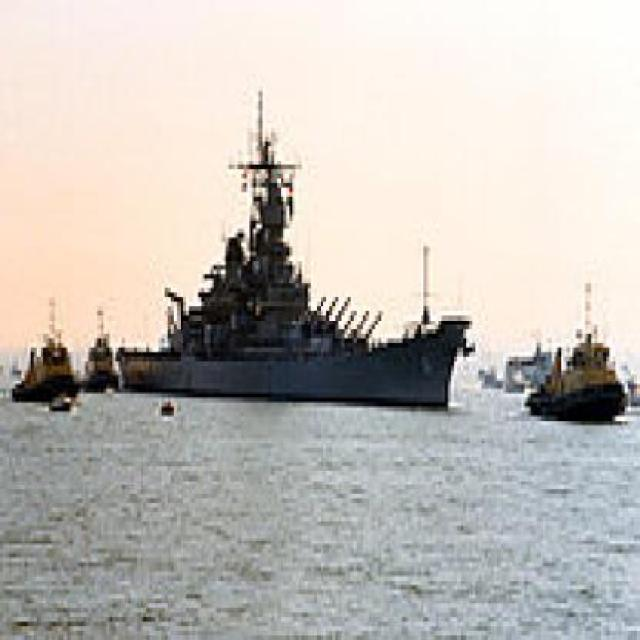warship2: (117, 74, 483, 417)
